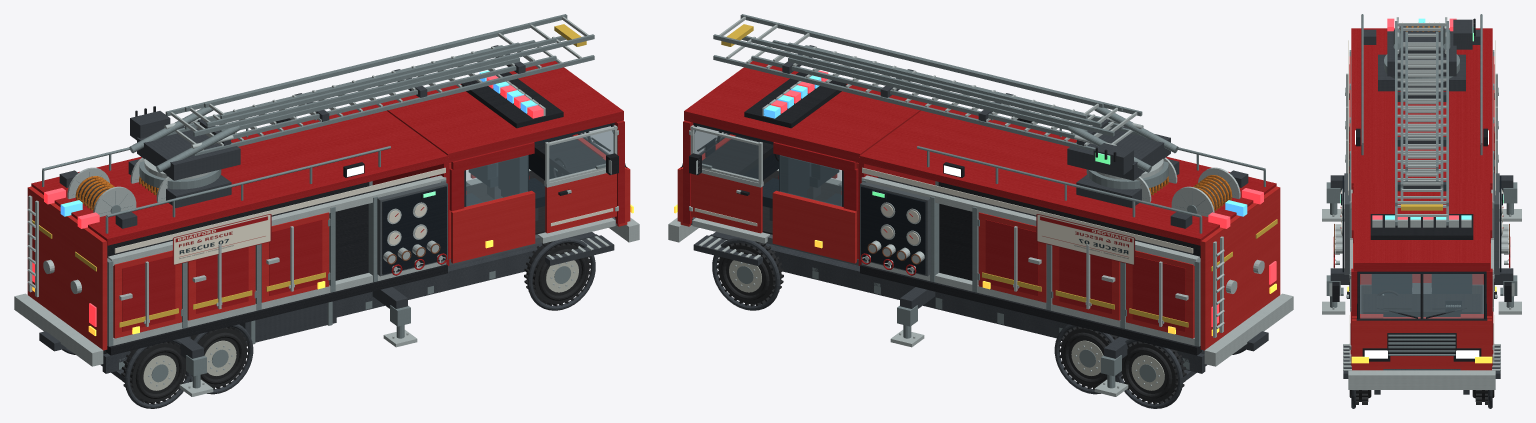
Rendered from ProjectZ_Fire_Engine.glb.
The picture shows the model from 3 angles, left to right: view 1: azimuth 30°, elevation 25°; view 2: azimuth 150°, elevation 25°; view 3: azimuth 270°, elevation 25°; orthographic projection. The views are drawn at different scales.
Visible parts, largest first — view 1: BODY_Roof_Main, CAB_Roof_Outer, BODY_RearEndPanel, BATCH_LADDER_STAGE_1_SideTruss_-1, CAB_SideRearLower_-1, BATCH_LADDER_STAGE_2_SideTruss_-1, PUMP_InstrumentFace_-1, BODY_MountingRubrail_-1, CAB_Door_-1_LowerSheet, BODY_SideEquipmentDoor_-1_2_Inset, BODY_SideEquipmentDoor_-1_0_Inset, BATCH_LADDER_STAGE_3_SideTruss_-1 (+55 smaller); view 2: BODY_Roof_Main, CAB_Roof_Outer, BODY_RearEndPanel, CAB_SideRearLower_+1, BATCH_LADDER_STAGE_1_SideTruss_+1, BATCH_LADDER_STAGE_2_SideTruss_+1, PUMP_InstrumentFace_+1, CHASSIS_MainFrame, BODY_MountingRubrail_+1, CAB_Door_+1_LowerSheet, BODY_SideEquipmentDoor_+1_2_Inset, BODY_SideEquipmentDoor_+1_0_Inset (+53 smaller); view 3: BODY_Roof_Main, CAB_Roof_Outer, CAB_FrontLowerFascia, CAB_FrontBumper, CAB_Windshield_-1, CAB_Windshield_+1, INTERIOR_DashTop, BATCH_LADDER_STAGE_2_Rungs, BATCH_LADDER_STAGE_1_Rungs, LIGHTBAR_Roof_AluminiumBase, BATCH_LADDER_STAGE_3_Rungs, LADDER_Turntable_Cradle (+51 smaller).
Boxes of the visible parts, x1,y1,x2,y2 form: BODY_Roof_Main: (31, 104, 448, 245); CAB_Roof_Outer: (380, 61, 623, 162); BODY_RearEndPanel: (27, 186, 107, 350); BATCH_LADDER_STAGE_1_SideTruss_-1: (193, 34, 594, 155); CAB_SideRearLower_-1: (451, 190, 535, 263); BATCH_LADDER_STAGE_2_SideTruss_-1: (206, 37, 556, 139); PUMP_InstrumentFace_-1: (382, 186, 446, 274); BODY_MountingRubrail_-1: (106, 264, 447, 355); CAB_Door_-1_LowerSheet: (545, 173, 616, 233); BODY_SideEquipmentDoor_-1_2_Inset: (269, 219, 322, 295); BODY_SideEquipmentDoor_-1_0_Inset: (122, 256, 175, 331); BATCH_LADDER_STAGE_3_SideTruss_-1: (220, 42, 519, 131); BODY_Roof_Main: (859, 104, 1276, 245); CAB_Roof_Outer: (684, 61, 927, 162); BODY_RearEndPanel: (1200, 186, 1280, 350); CAB_SideRearLower_+1: (772, 190, 856, 263); BATCH_LADDER_STAGE_1_SideTruss_+1: (713, 34, 1114, 151); BATCH_LADDER_STAGE_2_SideTruss_+1: (751, 37, 1101, 139); PUMP_InstrumentFace_+1: (861, 186, 925, 274); CHASSIS_MainFrame: (711, 232, 1204, 364); BODY_MountingRubrail_+1: (860, 264, 1201, 355); CAB_Door_+1_LowerSheet: (691, 173, 762, 233); BODY_SideEquipmentDoor_+1_2_Inset: (985, 219, 1038, 295); BODY_SideEquipmentDoor_+1_0_Inset: (1132, 256, 1185, 331); BODY_Roof_Main: (1351, 28, 1492, 189); CAB_Roof_Outer: (1353, 183, 1490, 271); CAB_FrontLowerFascia: (1352, 317, 1491, 368); CAB_FrontBumper: (1348, 370, 1495, 389); CAB_Windshield_-1: (1360, 274, 1420, 318); CAB_Windshield_+1: (1423, 274, 1483, 318); INTERIOR_DashTop: (1363, 294, 1480, 316); BATCH_LADDER_STAGE_2_Rungs: (1402, 44, 1441, 191); BATCH_LADDER_STAGE_1_Rungs: (1396, 42, 1447, 216); LIGHTBAR_Roof_AluminiumBase: (1370, 214, 1473, 239); BATCH_LADDER_STAGE_3_Rungs: (1406, 47, 1437, 176); LADDER_Turntable_Cradle: (1387, 31, 1456, 76).
Size of the model in its own units: 10.31 by 4.44 by 3.46.
Materials: 8 (2 with a texture image).
